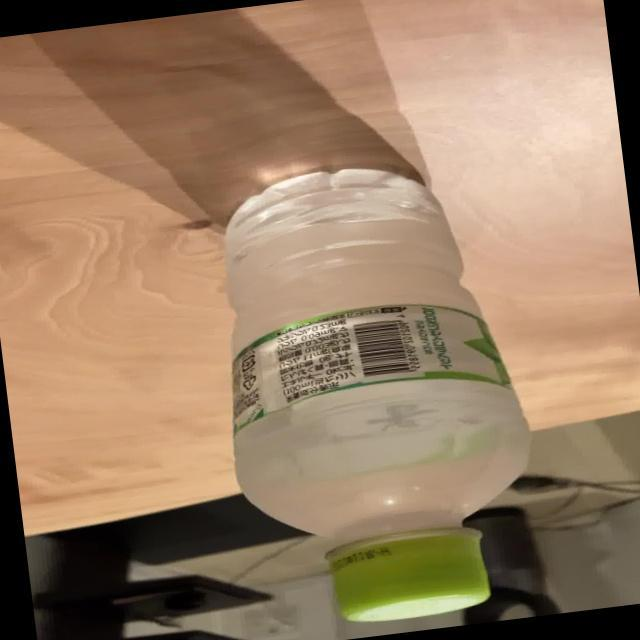good: (194, 146, 556, 640)
